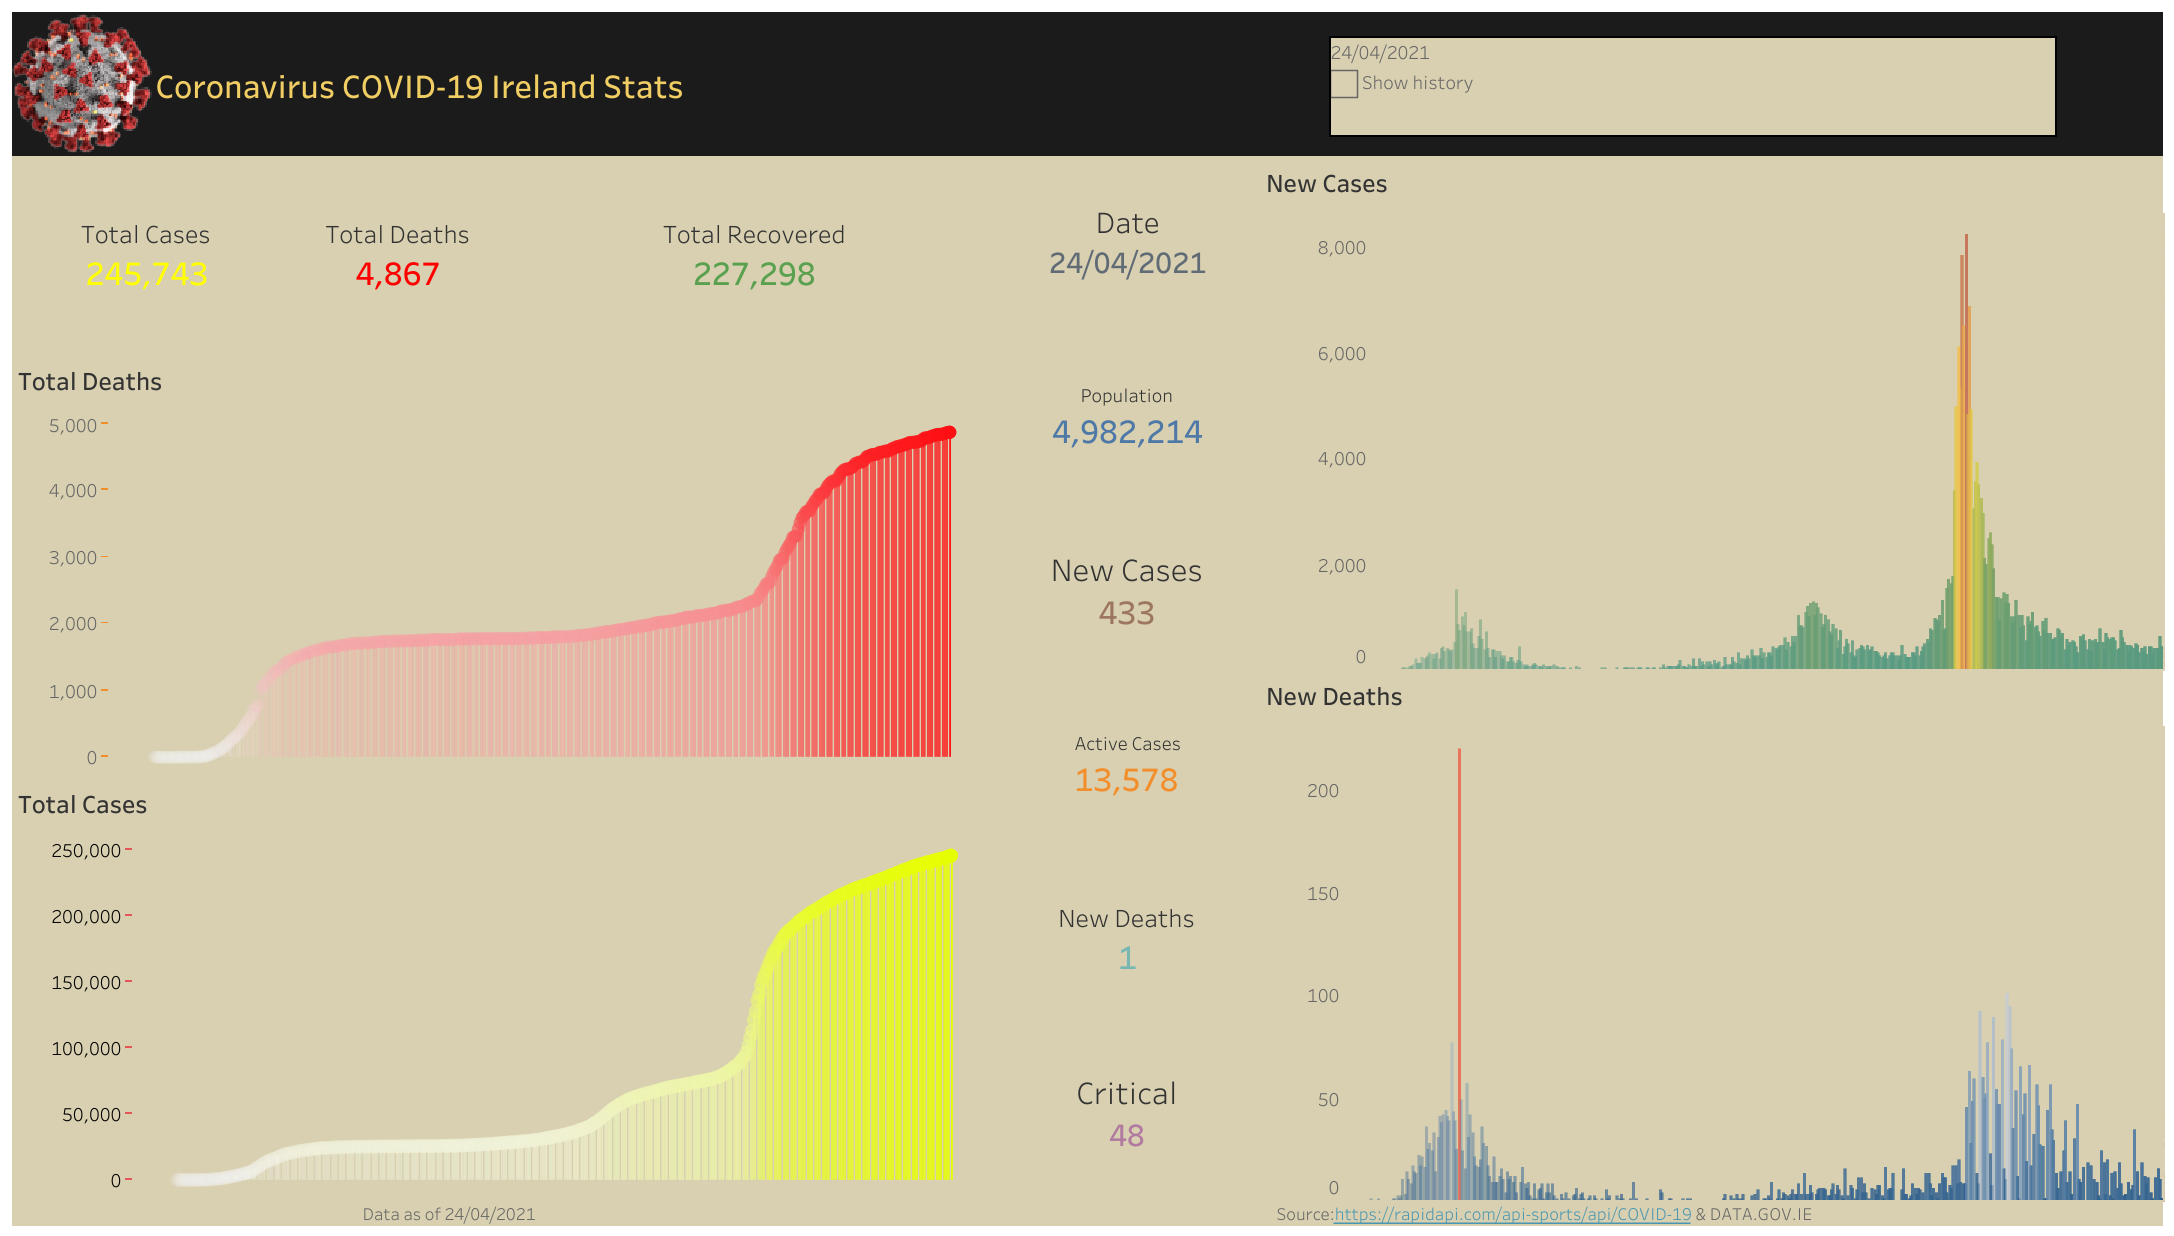

The dashboard page shown, as its layout file describes it:
{"tool":"tableau","page":{"name":"Dashboard 2","canvas":[1450,825],"ordinal":1},"visuals":[{"type":"worksheet","param":"vert","box":[8,8,1434,809]},{"type":"worksheet","param":"horz","box":[8,8,1434,96]},{"type":"worksheet","param":"Image/cod.png","box":[8,8,93,96]},{"type":"worksheet","box":[101,8,1341,96]},{"type":"worksheet","title":"date","mark":"Automatic","box":[886,24,485,67]},{"type":"worksheet","param":"horz","box":[8,104,1434,690]},{"type":"worksheet","param":"vert","box":[8,104,655,690]},{"type":"worksheet","param":"horz","box":[8,104,655,132]},{"type":"worksheet","title":"num_total_case","mark":"Automatic","box":[8,104,180,132]},{"type":"worksheet","title":"num_total_deaths","mark":"Automatic","box":[188,104,156,132]},{"type":"worksheet","title":"num_total_recovered","mark":"Automatic","box":[344,104,319,132]},{"type":"worksheet","param":"vert","box":[663,104,177,690]},{"type":"worksheet","title":"date","mark":"Automatic","box":[663,104,177,115]},{"type":"worksheet","param":"vert","box":[840,104,602,690]},{"type":"worksheet","param":"horz","box":[840,104,602,342]},{"type":"worksheet","title":"New Cases","mark":"Bar","rows":["new_cases","new_cases"],"cols":["dday"],"box":[840,104,602,342]},{"type":"worksheet","title":"num_population","mark":"Automatic","box":[663,219,177,115]},{"type":"worksheet","param":"horz","box":[8,236,655,279]},{"type":"worksheet","title":"Total Deaths","mark":"Line","rows":["total_deaths","total_deaths"],"cols":["dday"],"box":[8,236,655,279]},{"type":"worksheet","title":"num_new_cases","mark":"Automatic","box":[663,334,177,115]},{"type":"worksheet","param":"horz","box":[840,446,602,348]},{"type":"worksheet","title":"New Deaths","mark":"Bar","rows":["new_deaths","new_deaths"],"cols":["dday"],"box":[840,446,602,348]},{"type":"worksheet","title":"active_cases","mark":"Automatic","box":[663,449,177,115]},{"type":"worksheet","param":"horz","box":[8,515,655,279]},{"type":"worksheet","title":"Total Cases","mark":"Line","rows":["total_cases","total_cases"],"cols":["dday"],"box":[8,515,655,279]},{"type":"worksheet","title":"num_new_deaths","mark":"Automatic","box":[663,564,177,115]},{"type":"worksheet","title":"critical_cases","mark":"Automatic","box":[663,679,177,115]},{"type":"worksheet","box":[8,794,1434,23]}]}

Visuals, with their boxes in screenshot pixels (x1, y1, x2, y2), scaled from the page's 1450x825 canvas onto the 2174x1236 screenshot:
worksheet: x1=12, y1=12, x2=2162, y2=1224
worksheet: x1=12, y1=12, x2=2162, y2=156
worksheet: x1=12, y1=12, x2=151, y2=156
worksheet: x1=151, y1=12, x2=2162, y2=156
"date" worksheet: x1=1328, y1=36, x2=2056, y2=136
worksheet: x1=12, y1=156, x2=2162, y2=1190
worksheet: x1=12, y1=156, x2=994, y2=1190
worksheet: x1=12, y1=156, x2=994, y2=354
"num_total_case" worksheet: x1=12, y1=156, x2=282, y2=354
"num_total_deaths" worksheet: x1=282, y1=156, x2=516, y2=354
"num_total_recovered" worksheet: x1=516, y1=156, x2=994, y2=354
worksheet: x1=994, y1=156, x2=1259, y2=1190
"date" worksheet: x1=994, y1=156, x2=1259, y2=328
worksheet: x1=1259, y1=156, x2=2162, y2=1190
worksheet: x1=1259, y1=156, x2=2162, y2=668
"New Cases" worksheet (Bar marks): x1=1259, y1=156, x2=2162, y2=668
"num_population" worksheet: x1=994, y1=328, x2=1259, y2=500
worksheet: x1=12, y1=354, x2=994, y2=772
"Total Deaths" worksheet (Line marks): x1=12, y1=354, x2=994, y2=772
"num_new_cases" worksheet: x1=994, y1=500, x2=1259, y2=673
worksheet: x1=1259, y1=668, x2=2162, y2=1190
"New Deaths" worksheet (Bar marks): x1=1259, y1=668, x2=2162, y2=1190
"active_cases" worksheet: x1=994, y1=673, x2=1259, y2=845
worksheet: x1=12, y1=772, x2=994, y2=1190
"Total Cases" worksheet (Line marks): x1=12, y1=772, x2=994, y2=1190
"num_new_deaths" worksheet: x1=994, y1=845, x2=1259, y2=1017
"critical_cases" worksheet: x1=994, y1=1017, x2=1259, y2=1190
worksheet: x1=12, y1=1190, x2=2162, y2=1224
